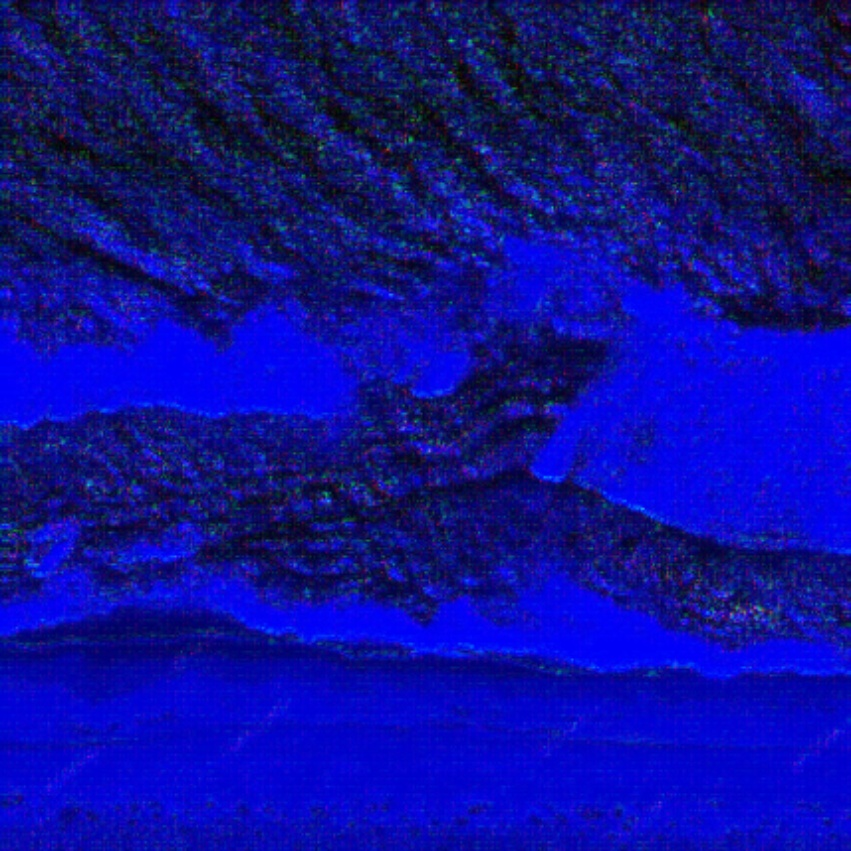rip_current: (287, 153, 610, 561)
